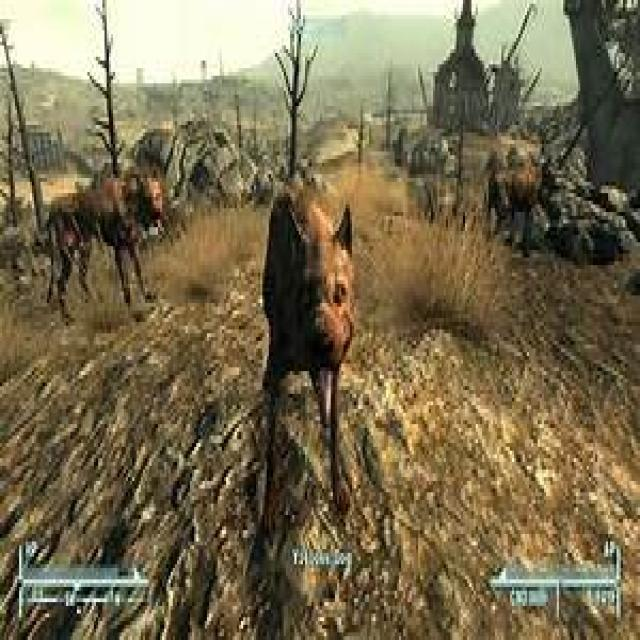dog: (262, 170, 358, 489), (43, 163, 171, 311)
